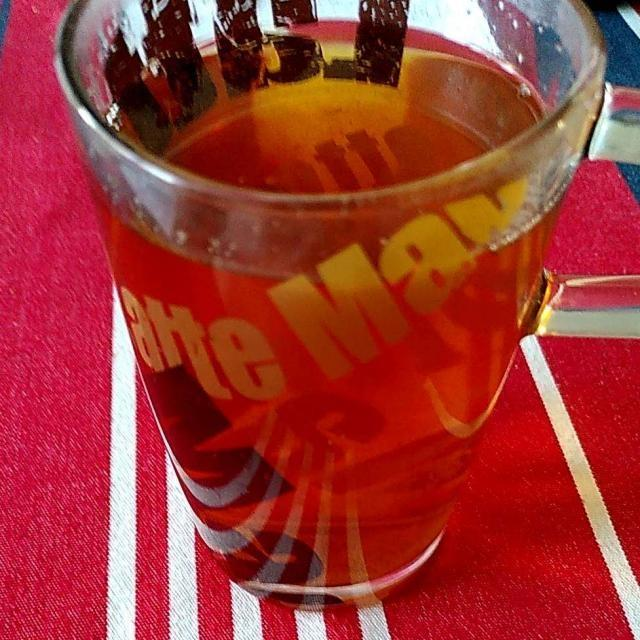tea: (91, 34, 571, 610)
